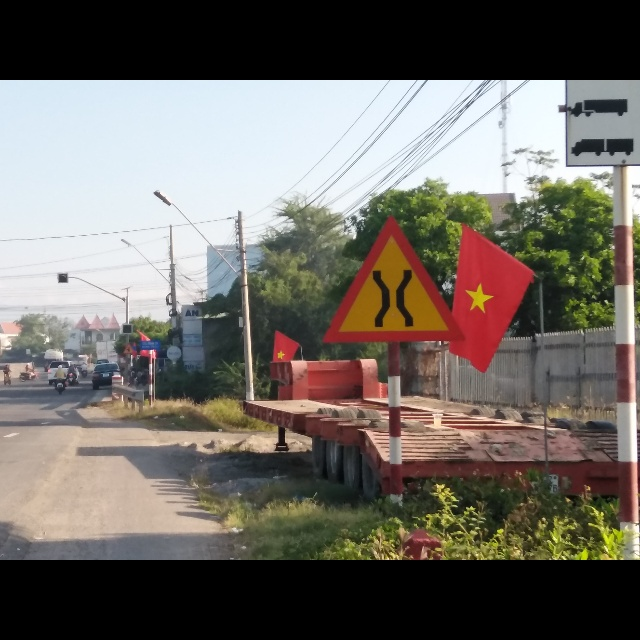Cầu hẹp: (324, 212, 463, 347)
